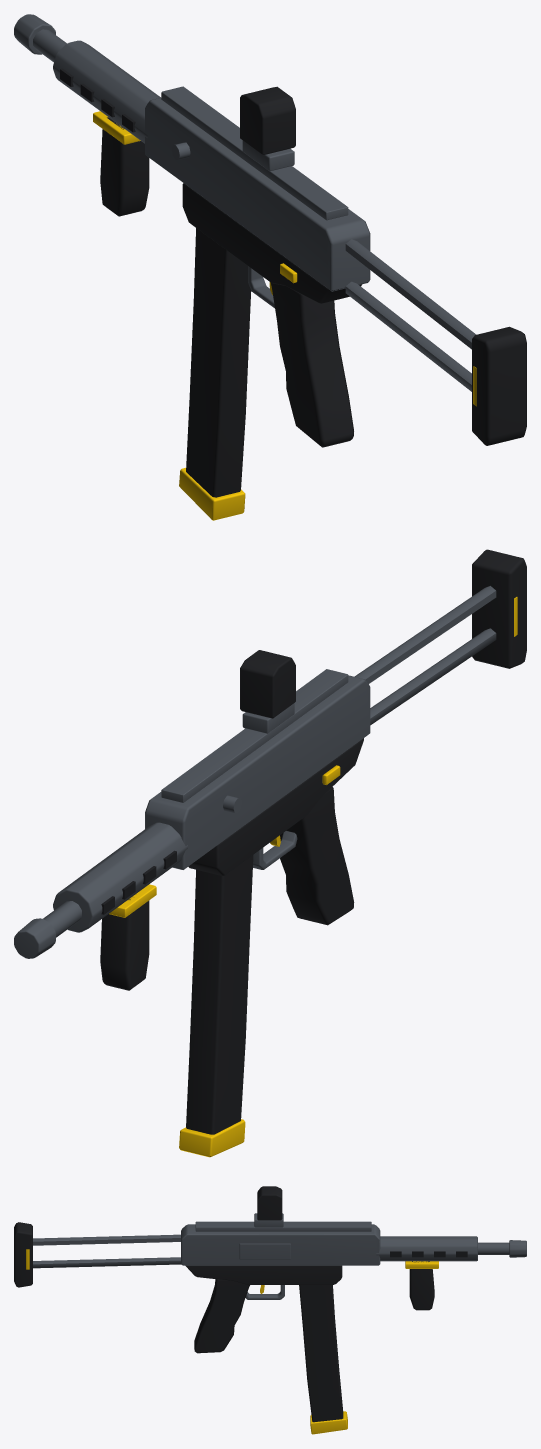
The model's file is weapon_smg.glb.
3 views of the same model, one above another, from view 1: azimuth 30°, elevation 25°; view 2: azimuth 150°, elevation 25°; view 3: azimuth 270°, elevation 25° (orthographic). The views are drawn at different scales.
Parts seen in each view (by area): view 1: Weapon_SMG; view 2: Weapon_SMG; view 3: Weapon_SMG.
Part boxes in pixels (<box>): Weapon_SMG: <box>14,14,526,520</box>; Weapon_SMG: <box>14,549,526,1157</box>; Weapon_SMG: <box>14,1186,526,1434</box>.
Size of the model in its own units: 0.0445 by 0.3618 by 0.7.
